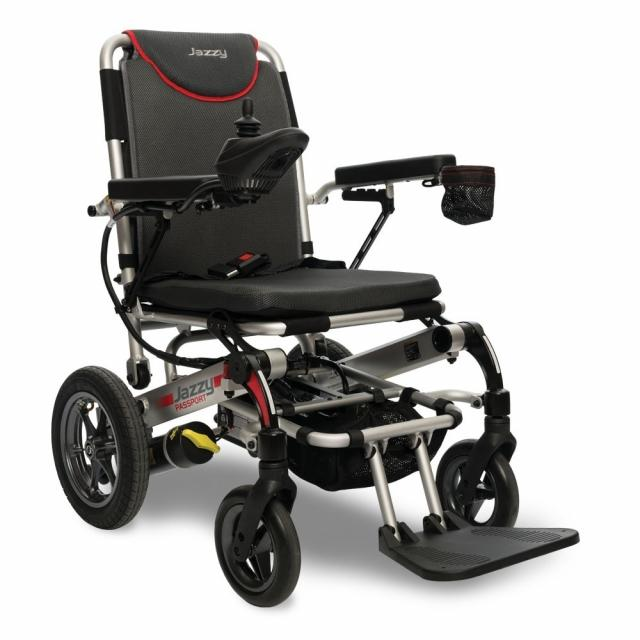wheelchair: (41, 19, 618, 618)
